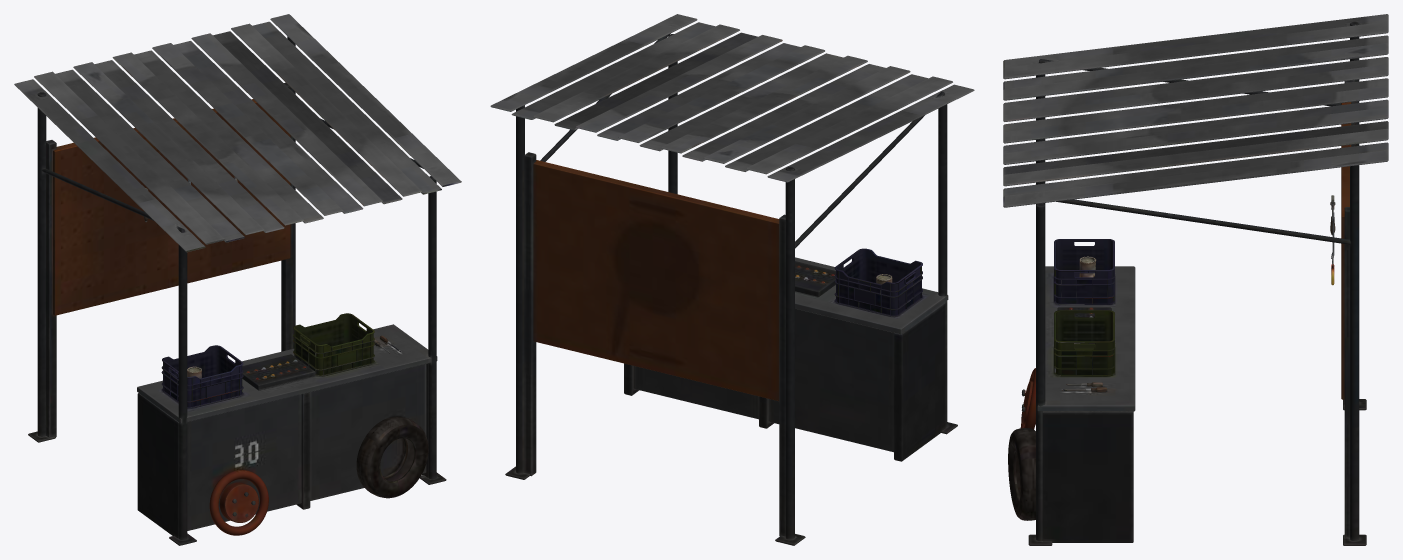
Rendered from parts_stall.glb.
3 views of the same model, side by side, from view 1: azimuth 30°, elevation 25°; view 2: azimuth 150°, elevation 25°; view 3: azimuth 270°, elevation 25° (orthographic). The views are drawn at different scales.
Visible parts, largest first — view 1: parts_stall; view 2: parts_stall; view 3: parts_stall.
Boxes of the visible parts, x1,y1,x2,y2 form: parts_stall: (14, 14, 461, 545); parts_stall: (490, 14, 974, 545); parts_stall: (1003, 14, 1388, 545).
Bounding box in the file's own units: 2.1 × 2.55 × 2.28.
3 materials, 3 textured.
